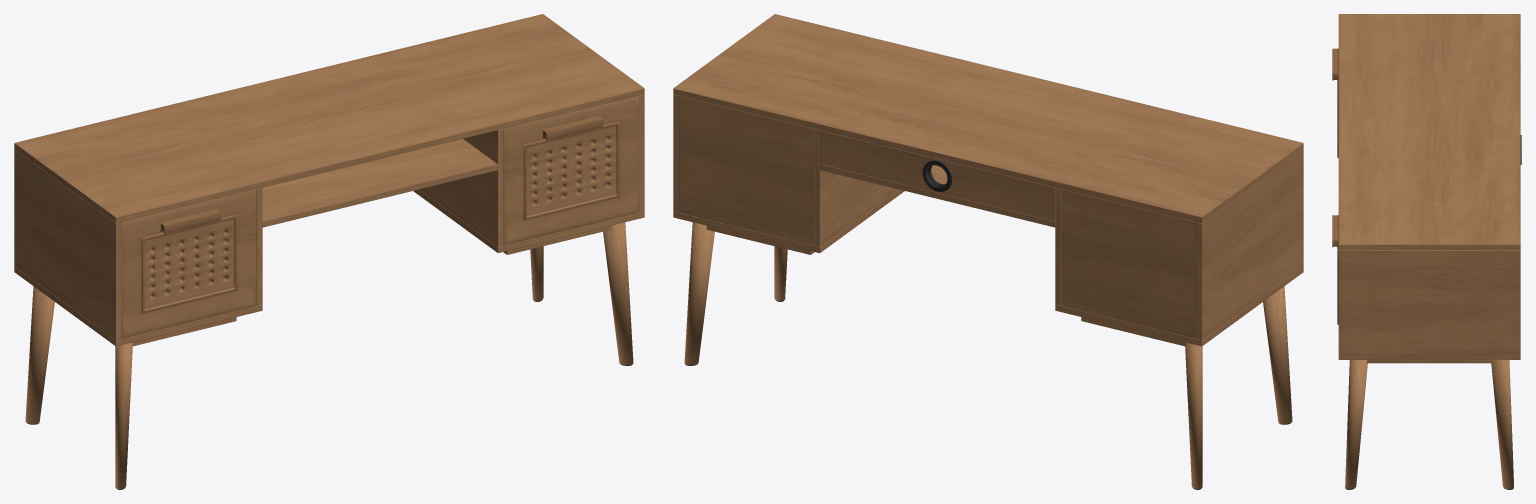
File: desk-transformed.glb
The picture shows the model from 3 angles, left to right: view 1: azimuth 30°, elevation 25°; view 2: azimuth 150°, elevation 25°; view 3: azimuth 270°, elevation 25°; orthographic projection. The views are drawn at different scales.
Parts seen in each view (by area): view 1: Desk, Drawers; view 2: Desk; view 3: Desk, Drawers.
Part boxes in pixels (bbox=[...]): Desk: bbox=[14, 14, 644, 489]; Drawers: bbox=[121, 96, 638, 338]; Desk: bbox=[673, 14, 1303, 489]; Desk: bbox=[1338, 14, 1521, 489]; Drawers: bbox=[1332, 48, 1338, 324].
Size of the model in its own units: 1.84 by 0.9246 by 0.6396.
2 materials, 1 textured.
